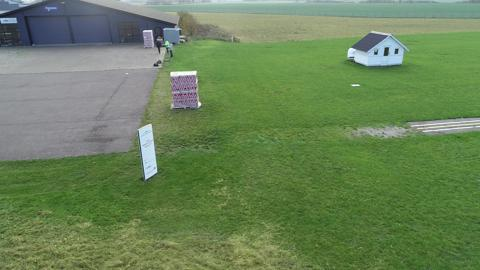RockwoolPallet: (142, 29, 155, 49)
